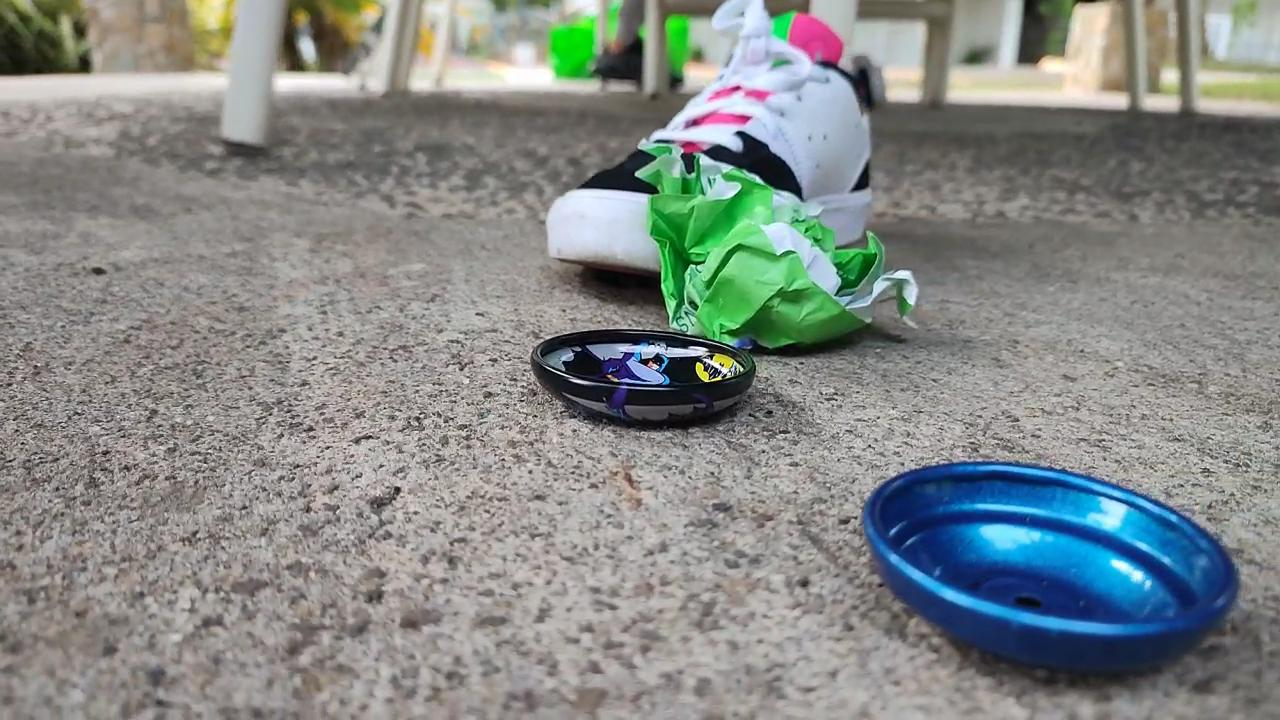Paper: (622, 141, 916, 351)
